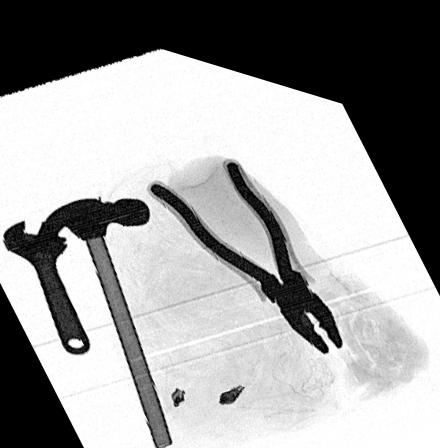Hammer: (30, 190, 176, 440)
Pliers: (141, 143, 343, 335)
Wrench: (1, 218, 93, 354)
